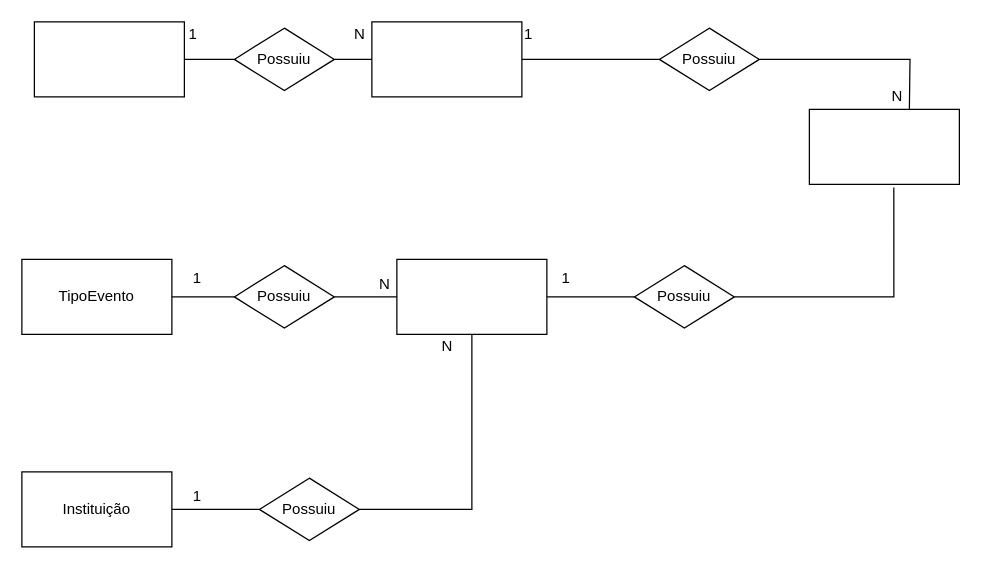
Image size: 981x569. Some labels were removed from this diagram. Each missing label, with the box of its shape:
Evento: (396, 258, 547, 334)
Presenca: (808, 108, 959, 184)
TipoUsuario: (33, 21, 184, 97)
Usuario: (371, 21, 522, 97)
